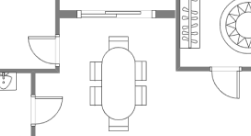door: (205, 57, 247, 105), (22, 90, 70, 131), (25, 29, 72, 69)
